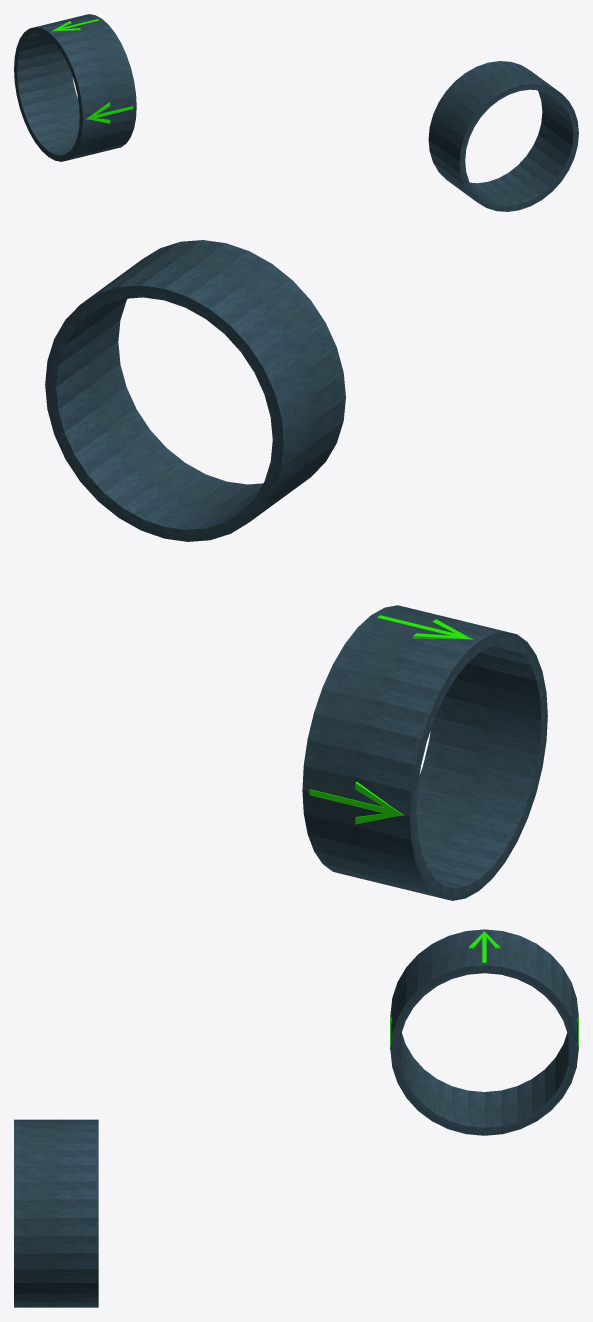
Rendered from Heavy Dark Energy Pipe 2.obj.
3 renders of one model, top to bottom at view 1: azimuth 30°, elevation 25°; view 2: azimuth 150°, elevation 25°; view 3: azimuth 270°, elevation 25°, orthographic. The views are drawn at different scales.
Parts seen in each view (by area): view 1: Cylinder.011; view 2: Cylinder.011; view 3: Cylinder.011.
Boxes of the visible parts, x1=… form: Cylinder.011: x1=14, y1=14, x2=578, y2=211; Cylinder.011: x1=45, y1=240, x2=547, y2=900; Cylinder.011: x1=14, y1=929, x2=578, y2=1307.
Size of the model in its own units: 3 by 1 by 3.
